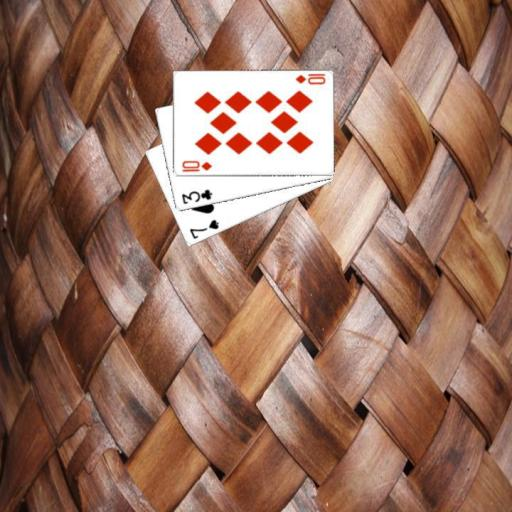10D: (292, 71, 327, 86), (179, 158, 213, 173)
3C: (179, 187, 214, 206)
7S: (187, 216, 221, 241)
